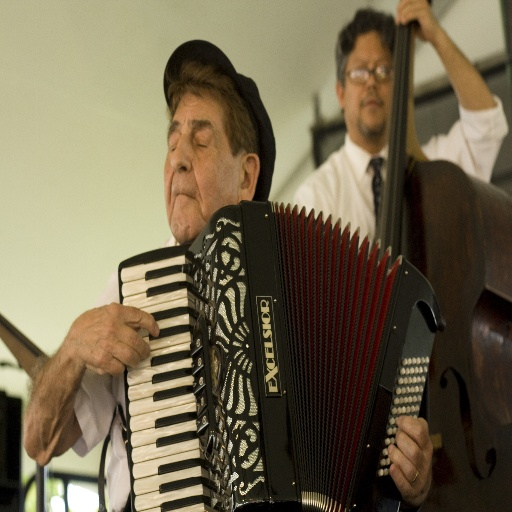hand: (61, 299, 160, 377), (381, 415, 446, 506), (393, 0, 438, 43)
